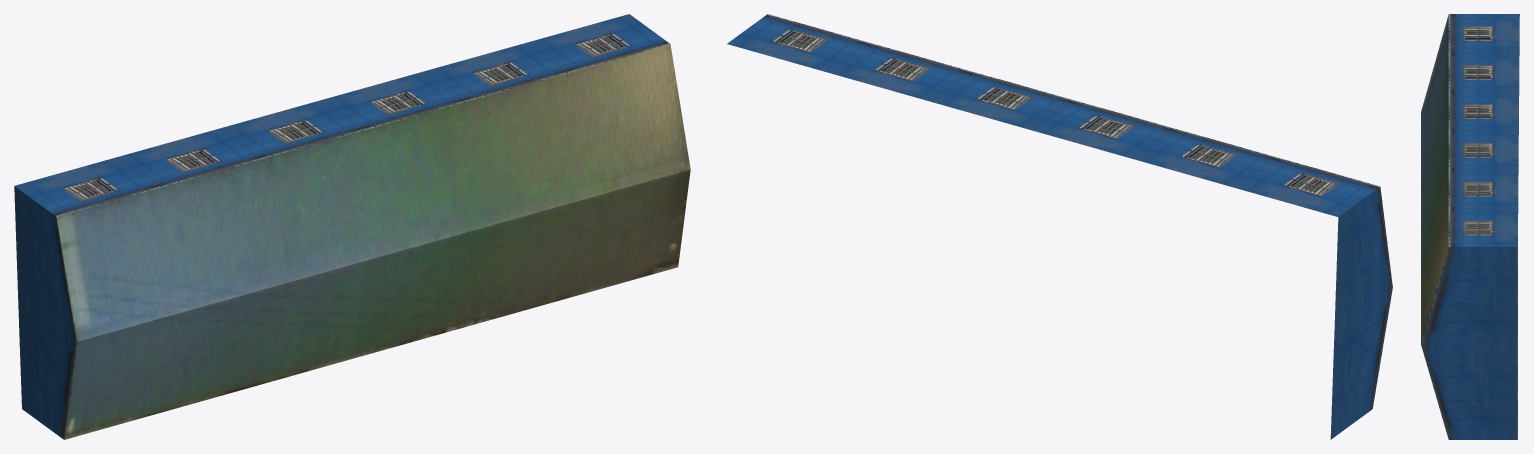
3 views of the same model, side by side, from view 1: azimuth 30°, elevation 25°; view 2: azimuth 150°, elevation 25°; view 3: azimuth 270°, elevation 25° (orthographic). The views are drawn at different scales.
Parts seen in each view (by area): view 1: Group_MatrixTransform_i96173_Geometry_3, Group_MatrixTransform_i96173_Geometry_0, Group_MatrixTransform_i96173_Geometry_1; view 2: Group_MatrixTransform_i96173_Geometry_0, Group_MatrixTransform_i96173_Geometry_1; view 3: Group_MatrixTransform_i96173_Geometry_0, Group_MatrixTransform_i96173_Geometry_1, Group_MatrixTransform_i96173_Geometry_3.
Part boxes in pixels (x1,y1,x2,y2): Group_MatrixTransform_i96173_Geometry_3: (56, 44, 690, 439); Group_MatrixTransform_i96173_Geometry_0: (14, 14, 669, 216); Group_MatrixTransform_i96173_Geometry_1: (14, 186, 76, 439); Group_MatrixTransform_i96173_Geometry_0: (727, 14, 1379, 216); Group_MatrixTransform_i96173_Geometry_1: (1330, 186, 1392, 439); Group_MatrixTransform_i96173_Geometry_0: (1448, 14, 1519, 246); Group_MatrixTransform_i96173_Geometry_1: (1421, 247, 1517, 439); Group_MatrixTransform_i96173_Geometry_3: (1421, 15, 1448, 344).
Size of the model in its own units: 30.64 by 11.68 by 5.
4 materials, 4 textured.
